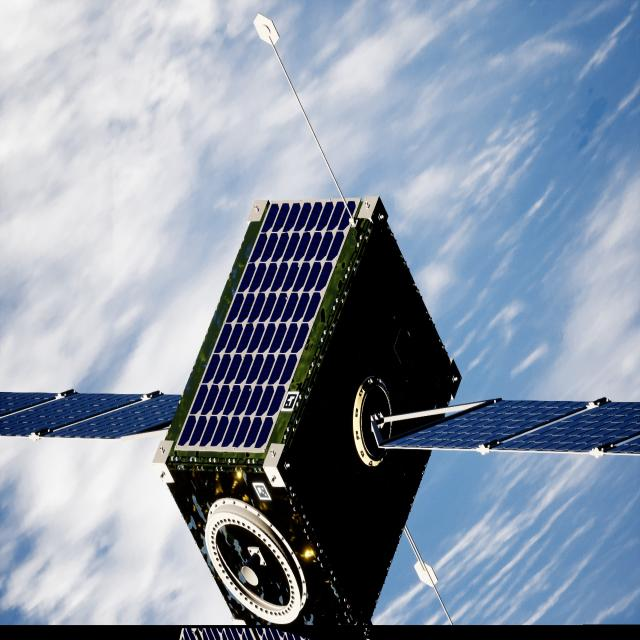medium_debris: (0, 199, 640, 640)
